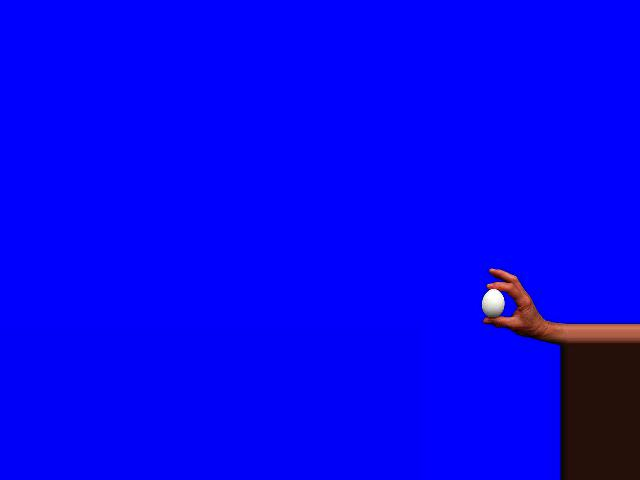egg: (481, 288, 504, 318)
